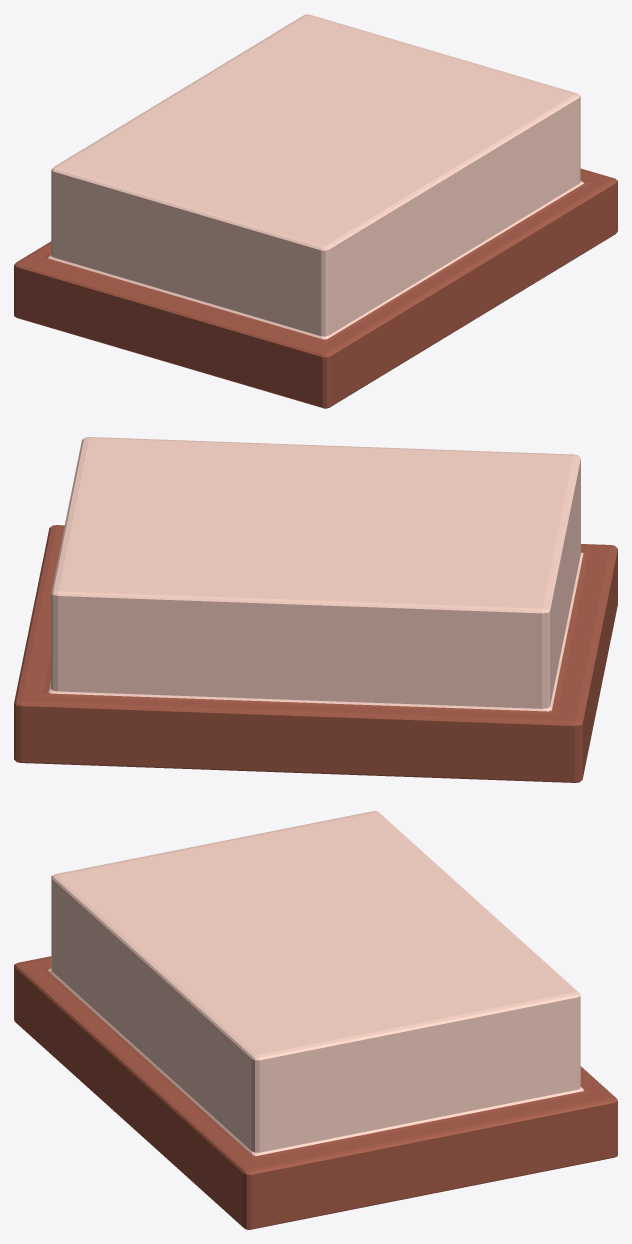
Rendered from item-stand1.fbx.
The picture shows the model from 3 angles, top to bottom: view 1: azimuth 30°, elevation 25°; view 2: azimuth 150°, elevation 25°; view 3: azimuth 270°, elevation 25°; orthographic projection. The views are drawn at different scales.
Visible parts, largest first — view 1: Cube.010; view 2: Cube.010; view 3: Cube.010.
Part boxes in pixels (box(x1,y1,x2,y2)): Cube.010: box(14, 14, 617, 408); Cube.010: box(14, 437, 617, 782); Cube.010: box(14, 811, 617, 1229).
Size of the model in its own units: 953 by 244 by 858.
